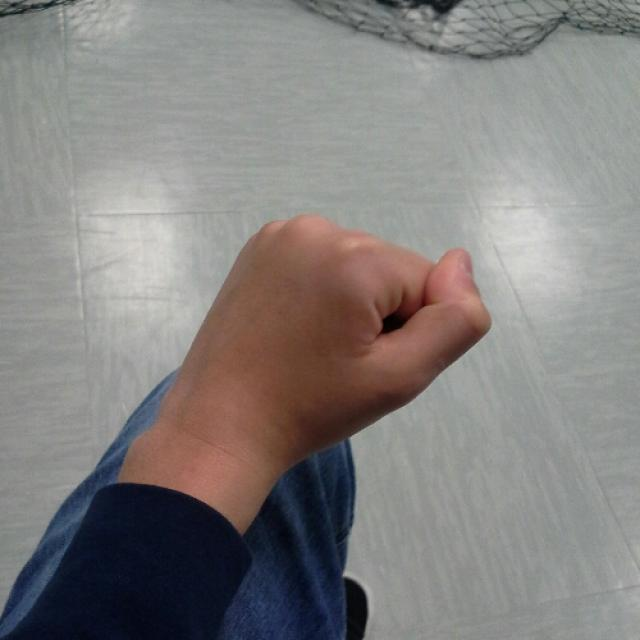rock: (183, 216, 492, 454)
